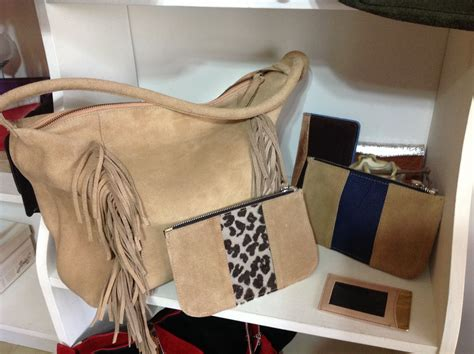gamuza: (3, 50, 450, 317)
